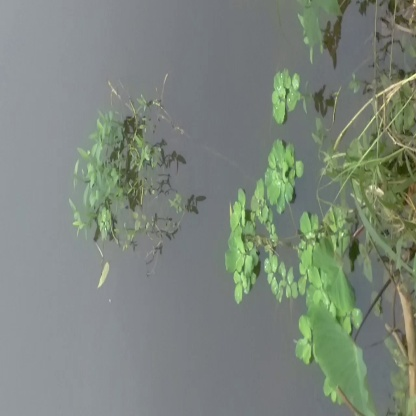grass: (63, 84, 196, 254)
